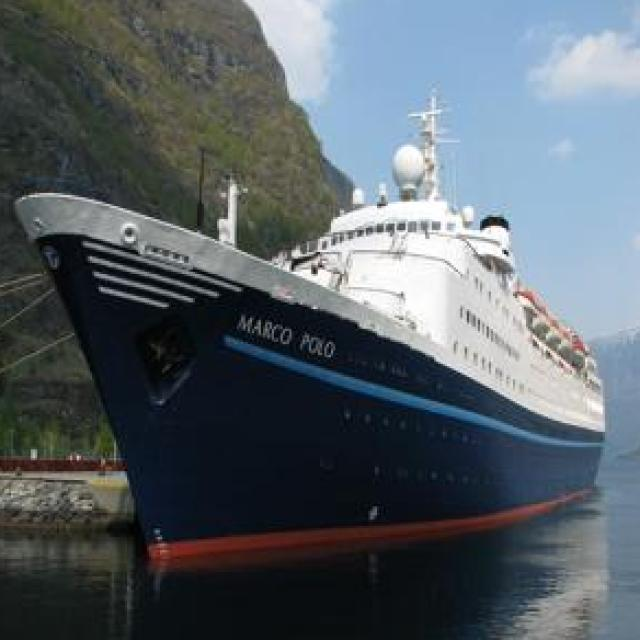passenger ship: (9, 106, 617, 561)
